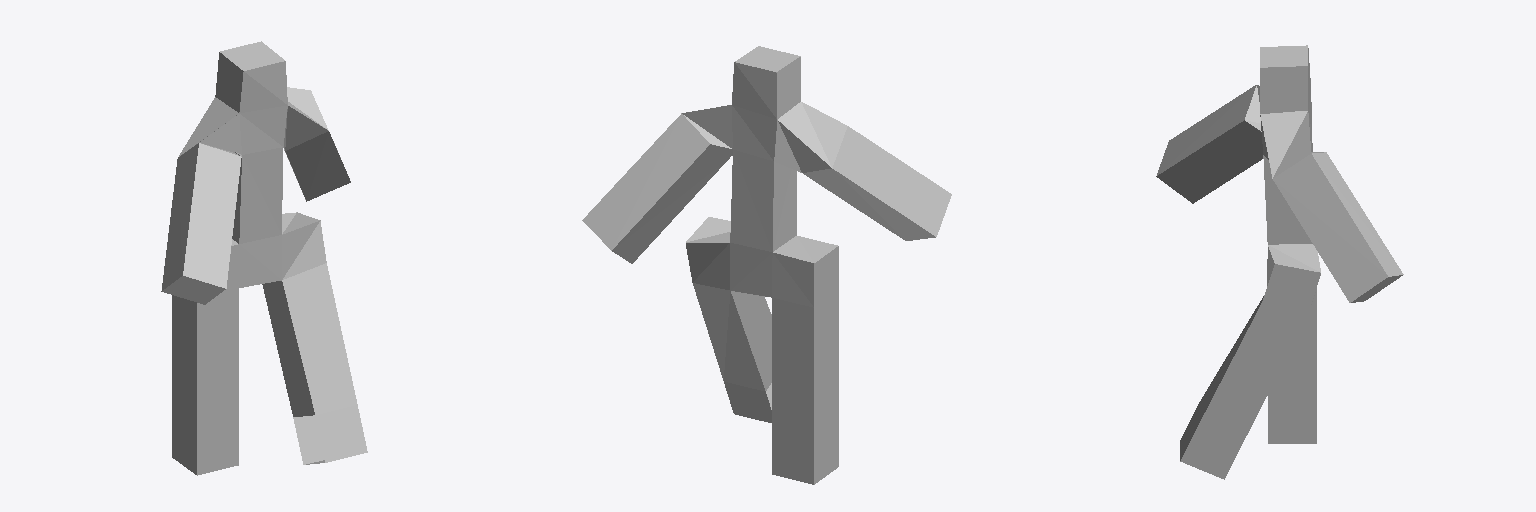
Rendered from cuboid_000007.obj.
The picture shows the model from 3 angles: view 1: azimuth 30°, elevation 25°; view 2: azimuth 150°, elevation 25°; view 3: azimuth 270°, elevation 25°; orthographic projection.
Visible parts, largest first — view 1: Cube; view 2: Cube; view 3: Cube.
Boxes of the visible parts, <box> form: Cube: <box>161,41,367,475</box>; Cube: <box>582,46,951,484</box>; Cube: <box>1156,45,1403,479</box>.
Size of the model in its own units: 3.11 by 4.51 by 2.54.